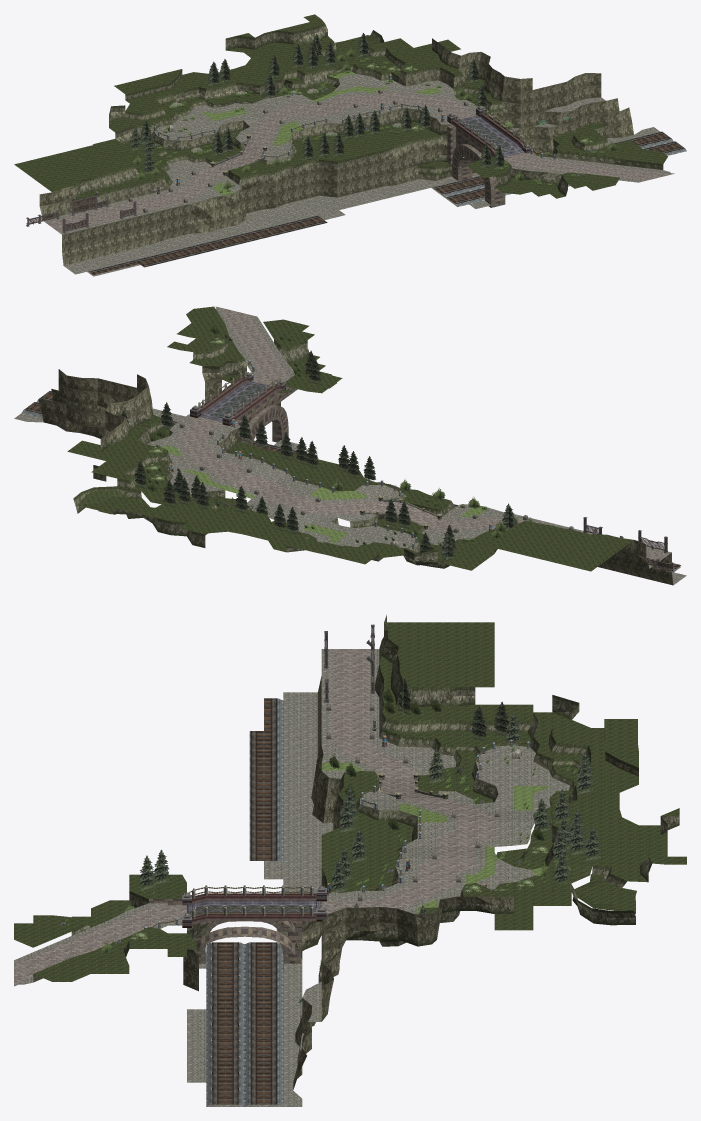
File: West5.obj
3 renders of one model, top to bottom at view 1: azimuth 30°, elevation 25°; view 2: azimuth 150°, elevation 25°; view 3: azimuth 270°, elevation 25°, orthographic. The views are drawn at different scales.
Parts seen in each view (by area): view 1: Object.55, Object.56, Object.43, Object.54, Object.48, Object.298, Object.45, Object.63, Object.52, Object.44, Object.273, Object.270 (+80 smaller); view 2: Object.43, Object.298, Object.262, Object.270, Object.264, Object.269, Object.263, Object.265, Object.267, Object.225, Object.492, Object.283 (+36 smaller); view 3: Object.298, Object.269, Object.46, Object.270, Object.225, Object.263, Object.273, Object.264, Object.265, Object.217, Object.262, Object.274 (+58 smaller).
Boxes of the visible parts, <box> form: Object.55: <box>285,165,337,203</box>; Object.56: <box>337,156,383,197</box>; Object.43: <box>573,98,622,138</box>; Object.54: <box>239,174,284,213</box>; Object.48: <box>39,193,107,265</box>; Object.298: <box>55,149,124,180</box>; Object.45: <box>521,110,573,153</box>; Object.63: <box>200,200,244,232</box>; Object.52: <box>154,208,200,243</box>; Object.44: <box>520,93,566,138</box>; Object.273: <box>143,74,203,113</box>; Object.270: <box>21,161,80,188</box>; Object.43: <box>51,389,105,438</box>; Object.298: <box>507,523,589,556</box>; Object.262: <box>187,508,266,533</box>; Object.270: <box>560,534,628,565</box>; Object.264: <box>78,470,163,509</box>; Object.269: <box>288,459,357,489</box>; Object.263: <box>142,487,212,523</box>; Object.265: <box>242,514,315,549</box>; Object.267: <box>67,440,141,469</box>; Object.225: <box>318,526,400,546</box>; Object.492: <box>163,470,208,509</box>; Object.283: <box>263,319,314,347</box>; Object.298: <box>397,646,475,678</box>; Object.269: <box>321,835,398,867</box>; Object.46: <box>324,907,397,948</box>; Object.270: <box>398,622,475,646</box>; Object.225: <box>475,761,553,794</box>; Object.263: <box>546,841,631,881</box>; Object.273: <box>551,735,638,787</box>; Object.264: <box>547,873,635,913</box>; Object.265: <box>549,776,638,810</box>; Object.217: <box>264,855,321,887</box>; Object.262: <box>551,809,630,841</box>; Object.274: <box>552,719,637,745</box>.
Size of the model in its own units: 210 by 26.98 by 140.
